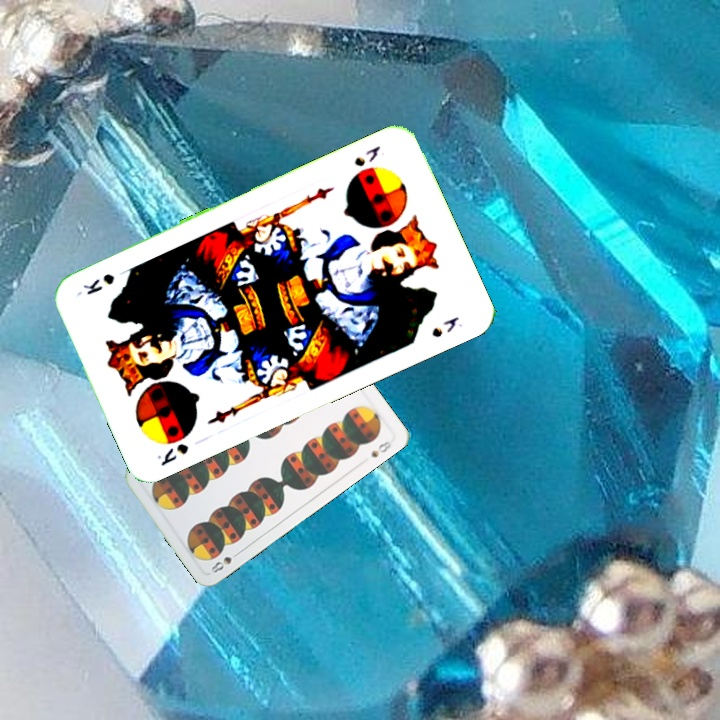S8: (207, 547, 243, 576)
SK: (153, 439, 191, 469), (350, 141, 383, 169)
